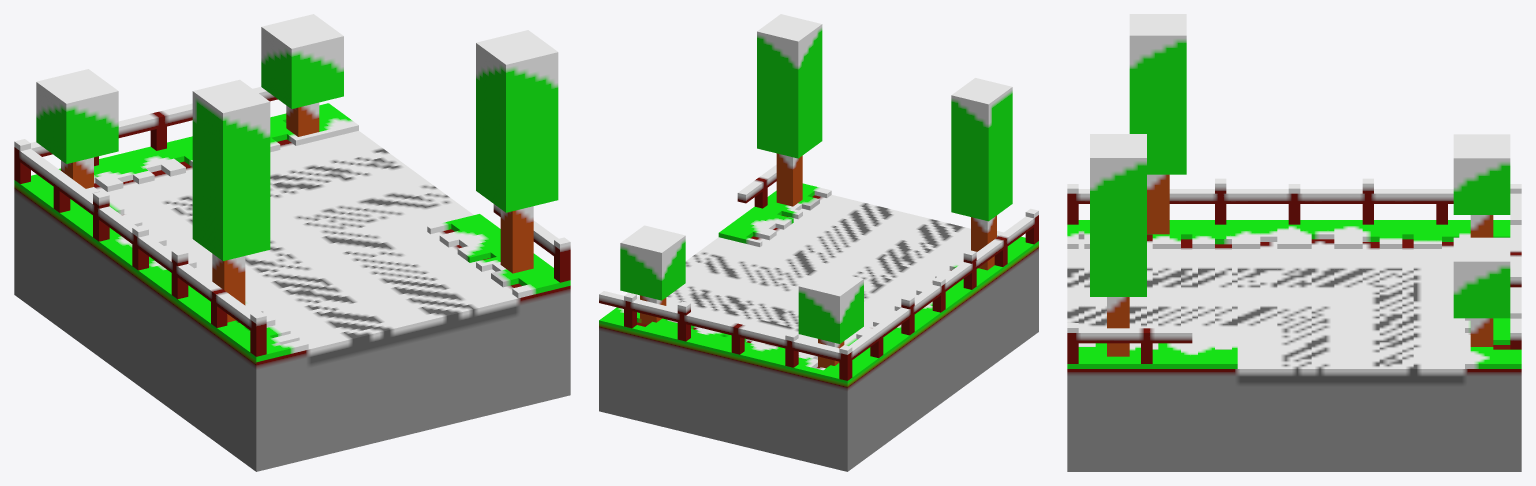
File: LastLeftPlane.fbx
3 views of the same model, side by side, from view 1: azimuth 30°, elevation 25°; view 2: azimuth 150°, elevation 25°; view 3: azimuth 270°, elevation 25° (orthographic). The views are drawn at different scales.
Visible parts, largest first — view 1: LastLeftPlane; view 2: LastLeftPlane; view 3: LastLeftPlane.
Boxes of the visible parts, box(x1,y1,x2,y2) form: LastLeftPlane: box(14, 14, 570, 471); LastLeftPlane: box(599, 14, 1038, 471); LastLeftPlane: box(1067, 14, 1521, 471).
Bounding box in the file's own units: 60 × 61 × 80.
1 material, 1 textured.
